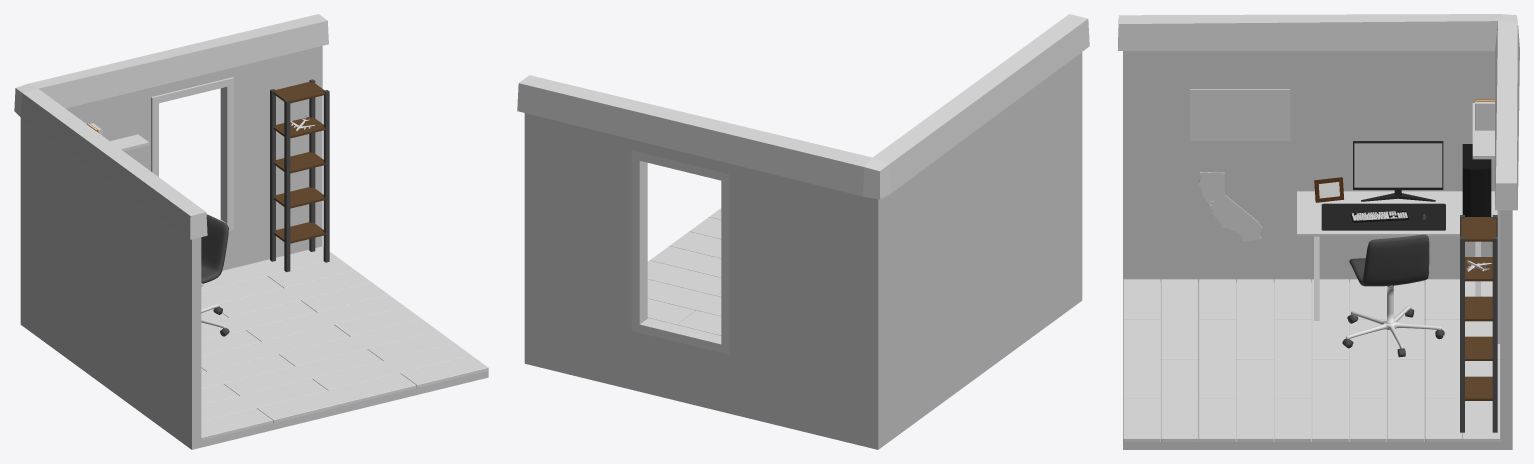
Rendered from room.glb.
3 renders of one model, left to right at view 1: azimuth 30°, elevation 25°; view 2: azimuth 150°, elevation 25°; view 3: azimuth 270°, elevation 25°, orthographic. The views are drawn at different scales.
Visible parts, largest first — view 1: First, Third, Second, Fourth; view 2: First; view 3: First, Second, Fourth, Third.
Boxes of the visible parts, x1=… form: First: x1=14, y1=14, x2=488, y2=449; Third: x1=270, y1=79, x2=329, y2=272; Second: x1=201, y1=214, x2=229, y2=336; Fourth: x1=87, y1=123, x2=149, y2=151; First: x1=517, y1=14, x2=1089, y2=449; First: x1=1118, y1=14, x2=1519, y2=449; Second: x1=1297, y1=141, x2=1497, y2=357; Fourth: x1=1190, y1=89, x2=1494, y2=159; Third: x1=1460, y1=215, x2=1497, y2=432.
Bounding box in the file's own units: 3.2 × 2.37 × 3.2.
